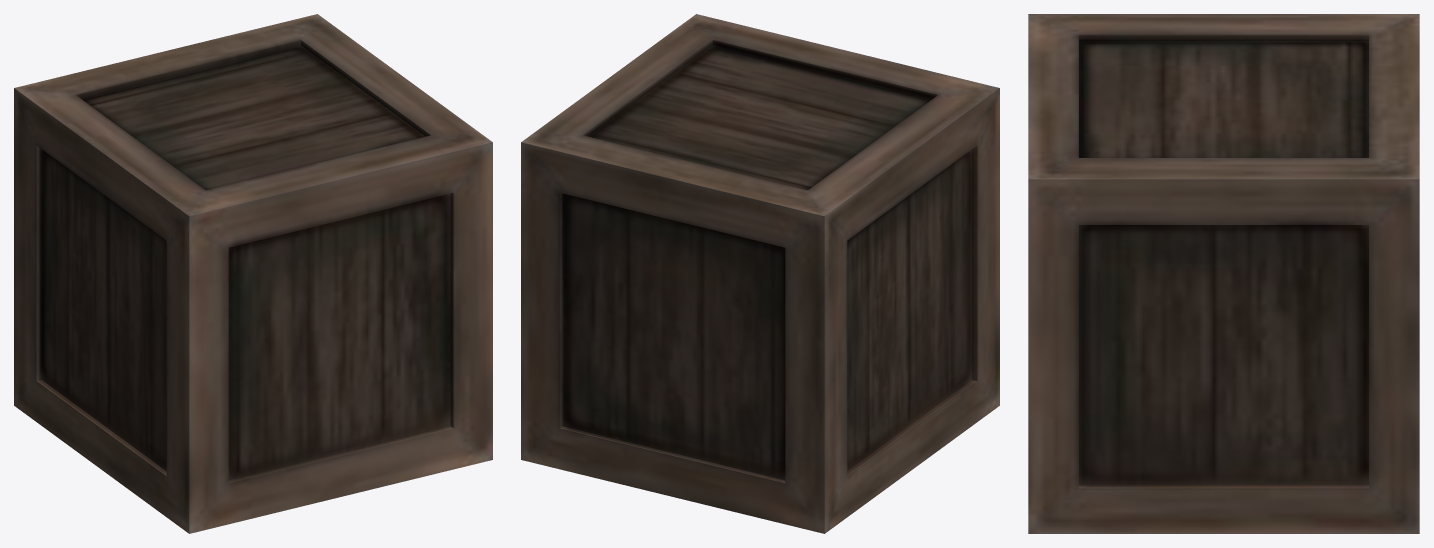
The model's file is crate.glb.
3 renders of one model, left to right at view 1: azimuth 30°, elevation 25°; view 2: azimuth 150°, elevation 25°; view 3: azimuth 270°, elevation 25°, orthographic. The views are drawn at different scales.
Visible parts, largest first — view 1: crate; view 2: crate; view 3: crate.
Part boxes in pixels (<box>): crate: <box>14,14,492,533</box>; crate: <box>521,14,999,533</box>; crate: <box>1028,14,1419,533</box>.
Size of the model in its own units: 0.8 by 0.8 by 0.8.
Materials: 1 (1 with a texture image).
